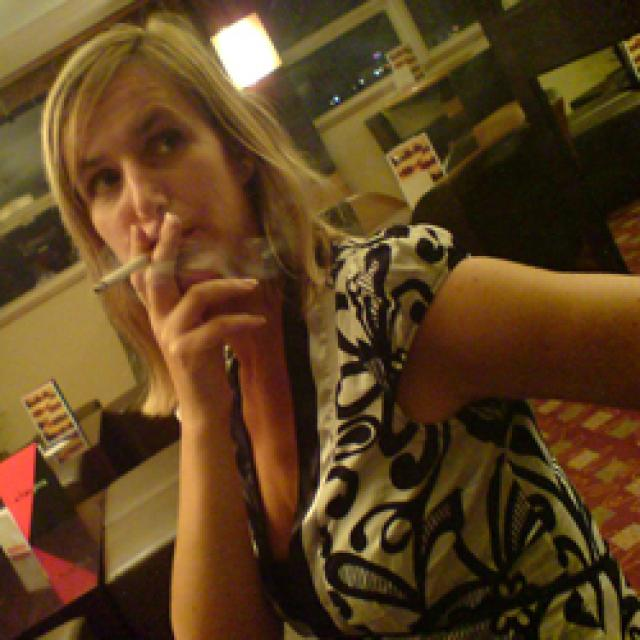Smooking: (78, 249, 152, 295)
